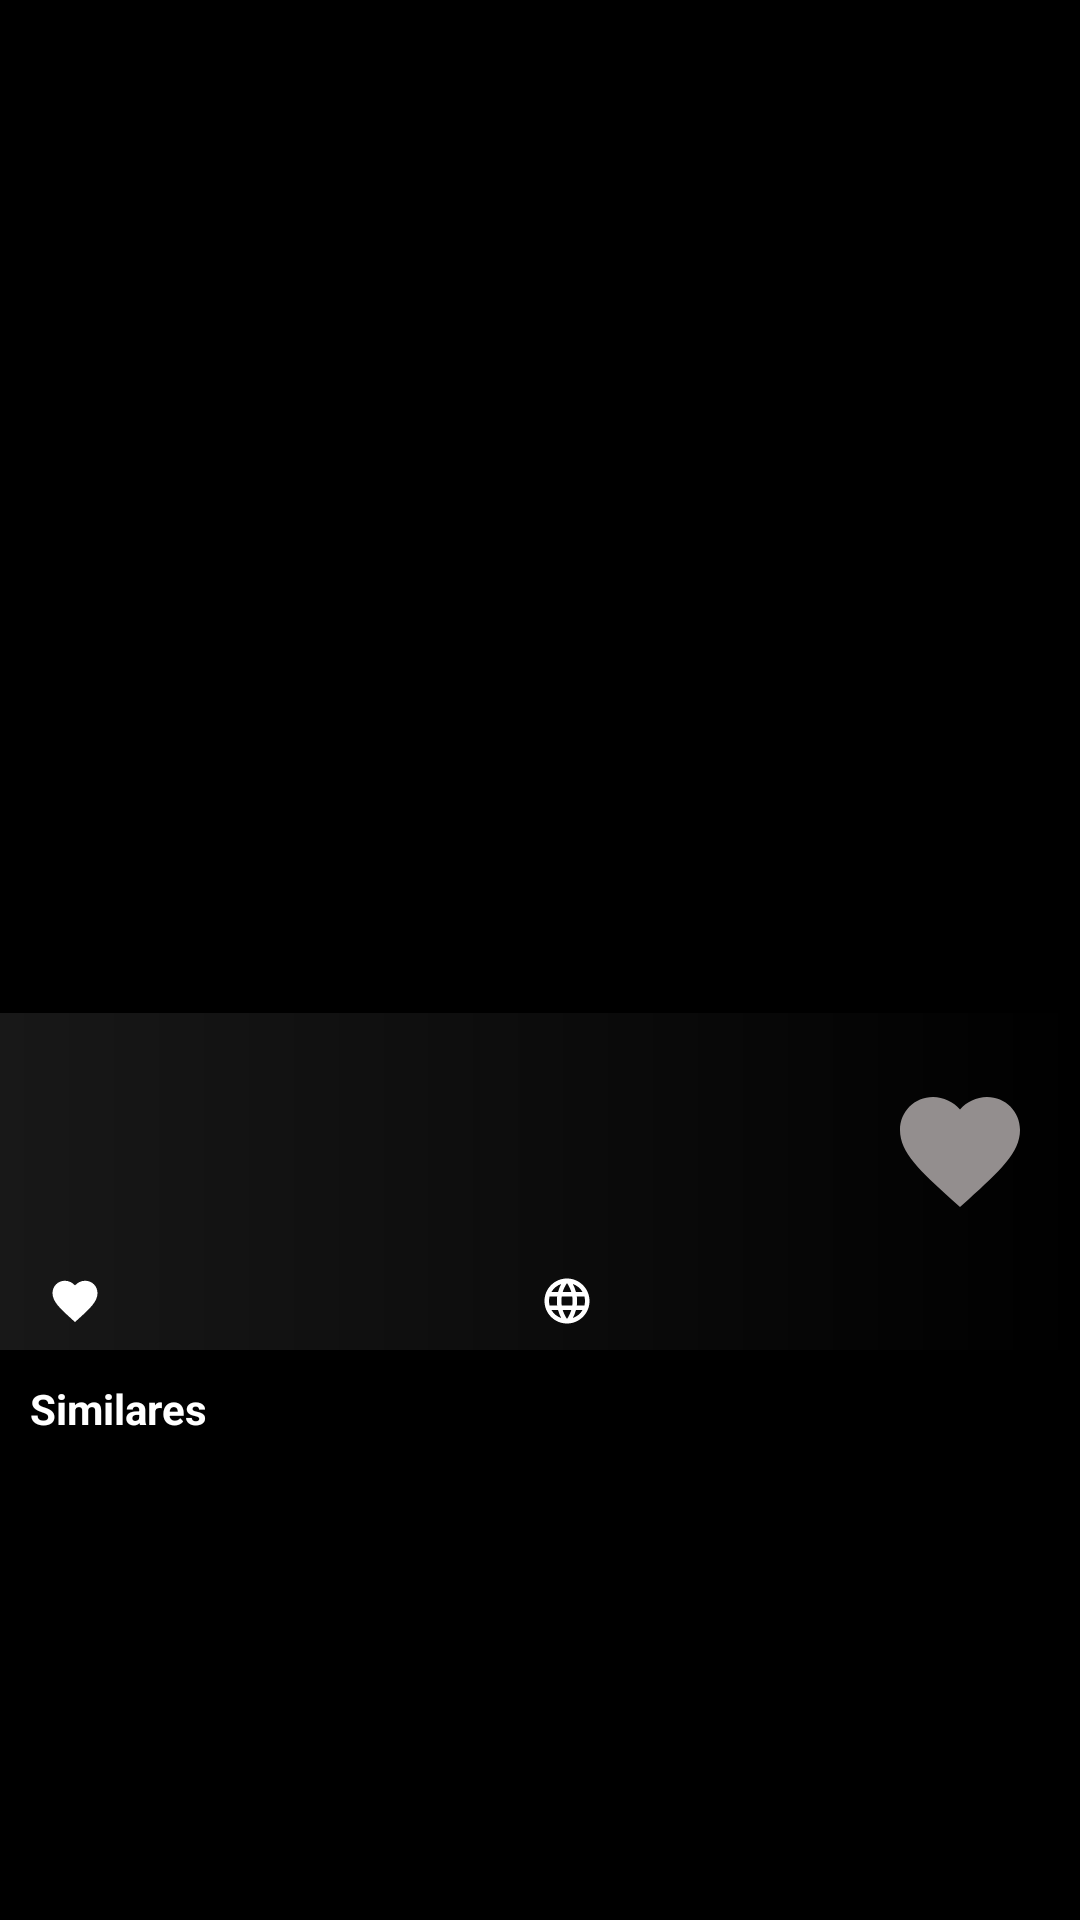

Icon bounding boxes for this 1080w x 1920h phone screenshot, format BBox(x1, y1, x2, y2):
fav off: BBox(900, 1097, 1020, 1207)
